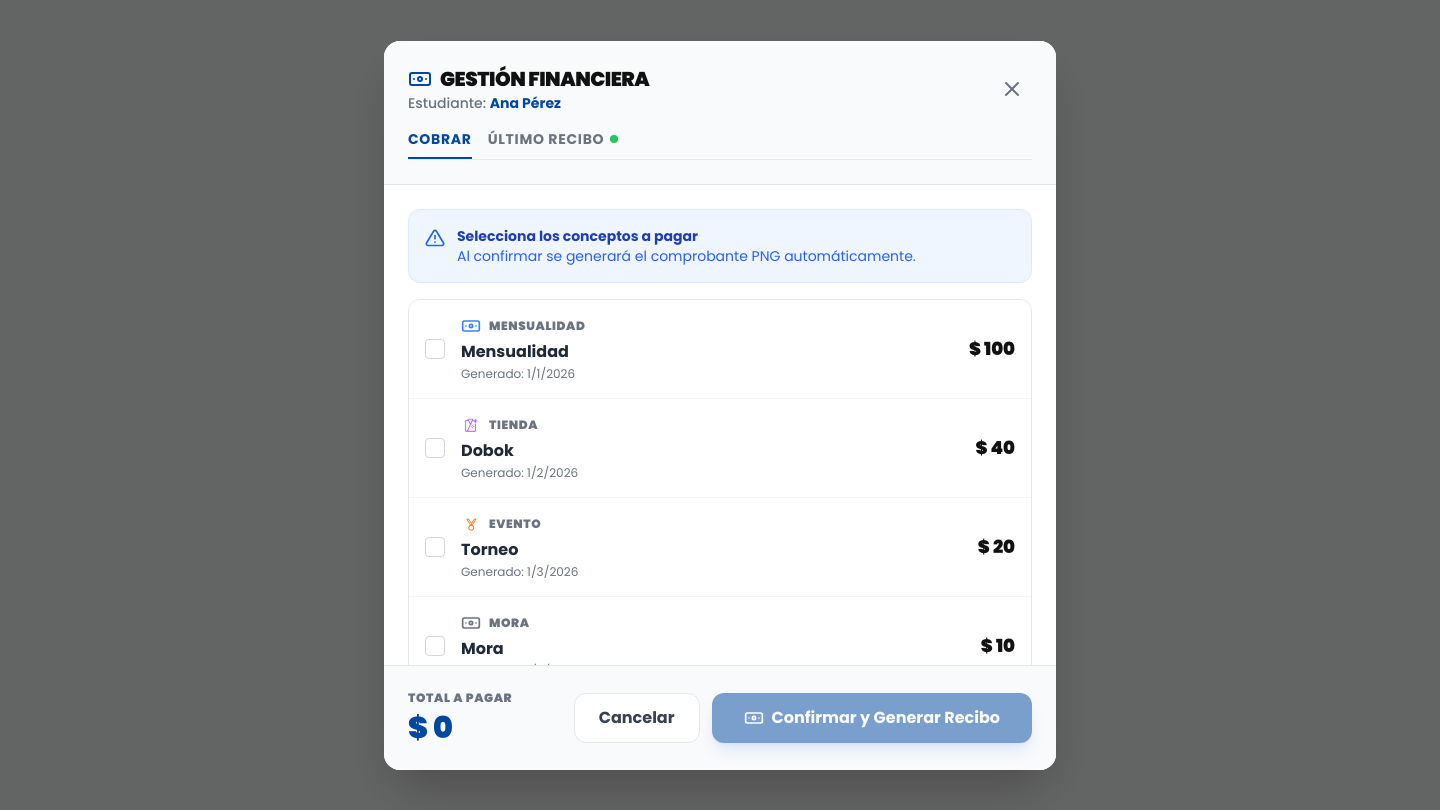
Test: ModalRegistrarPago › anulación del último pago › permite cerrar la confirmación sin anular
The width and height of the screenshot is (1440, 810).
Check: the text "Dobok" is shown, box left=461, top=438, right=514, bottom=462
Click the button "Último Recibo".
click(553, 144)  # box left=488, top=128, right=618, bottom=158
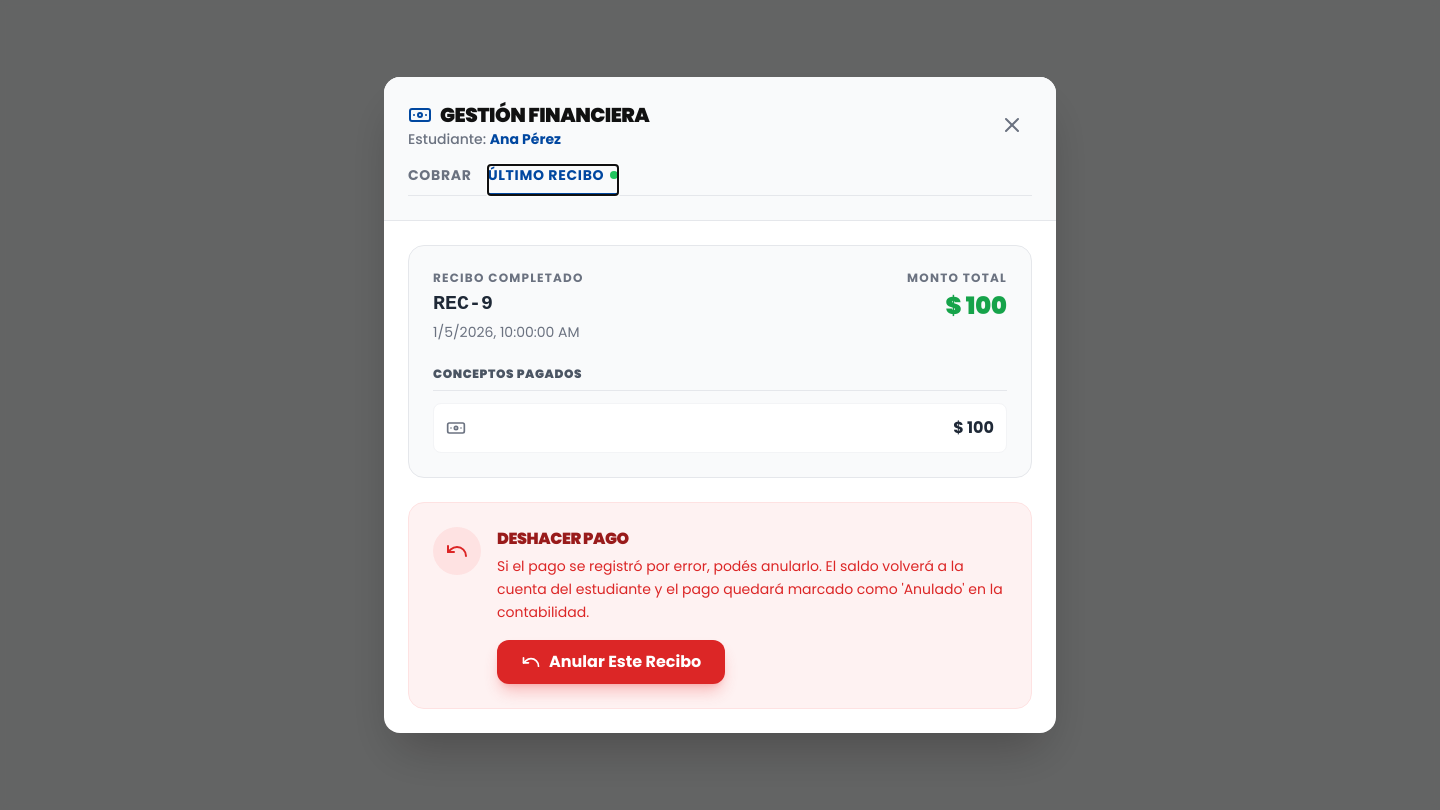
Click the button "Anular Este Recibo".
click(611, 662)  # box left=497, top=640, right=725, bottom=684
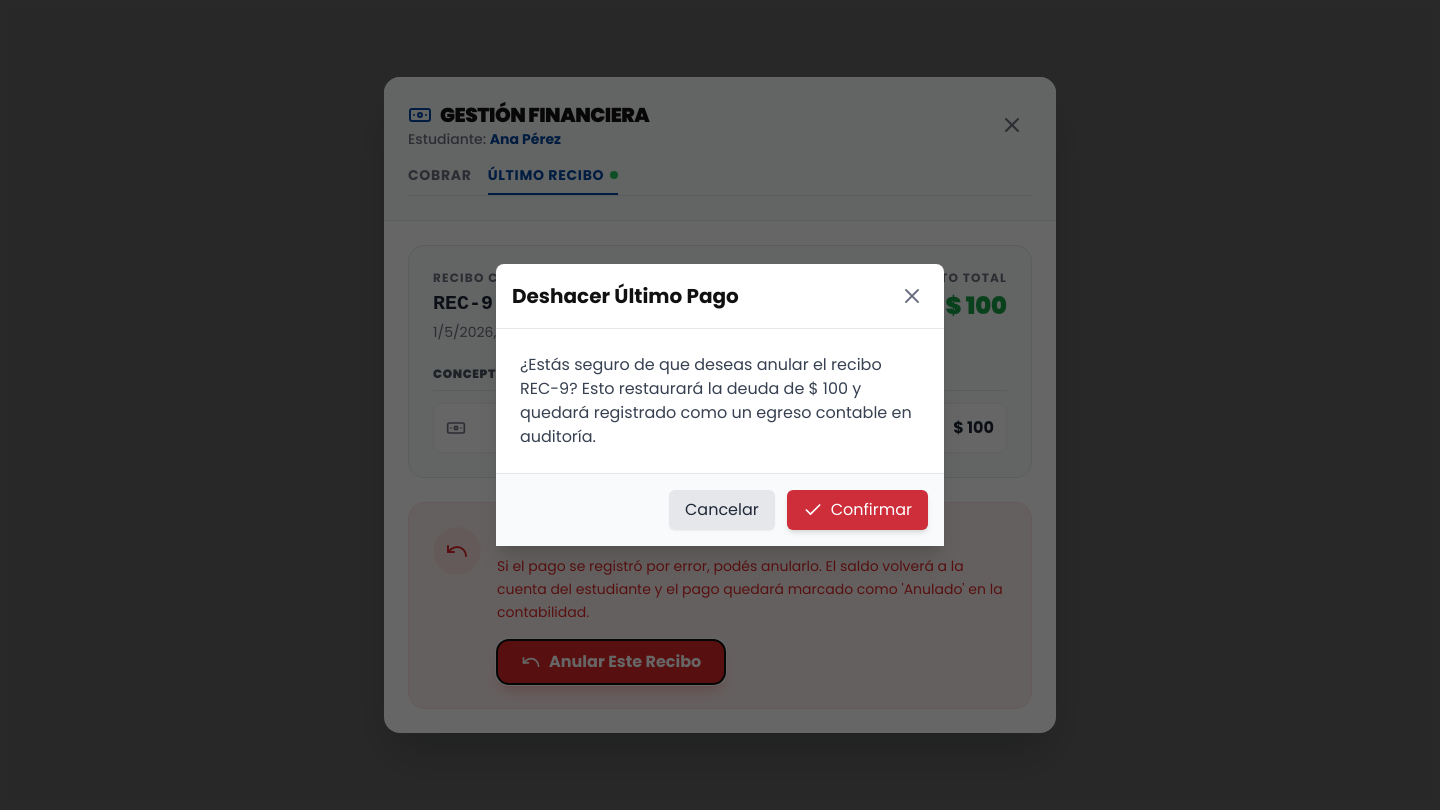
Check: the heading "Deshacer Último Pago" is shown, box left=512, top=282, right=739, bottom=310
Click the button "Cancelar".
click(722, 510)  # box left=669, top=490, right=775, bottom=530
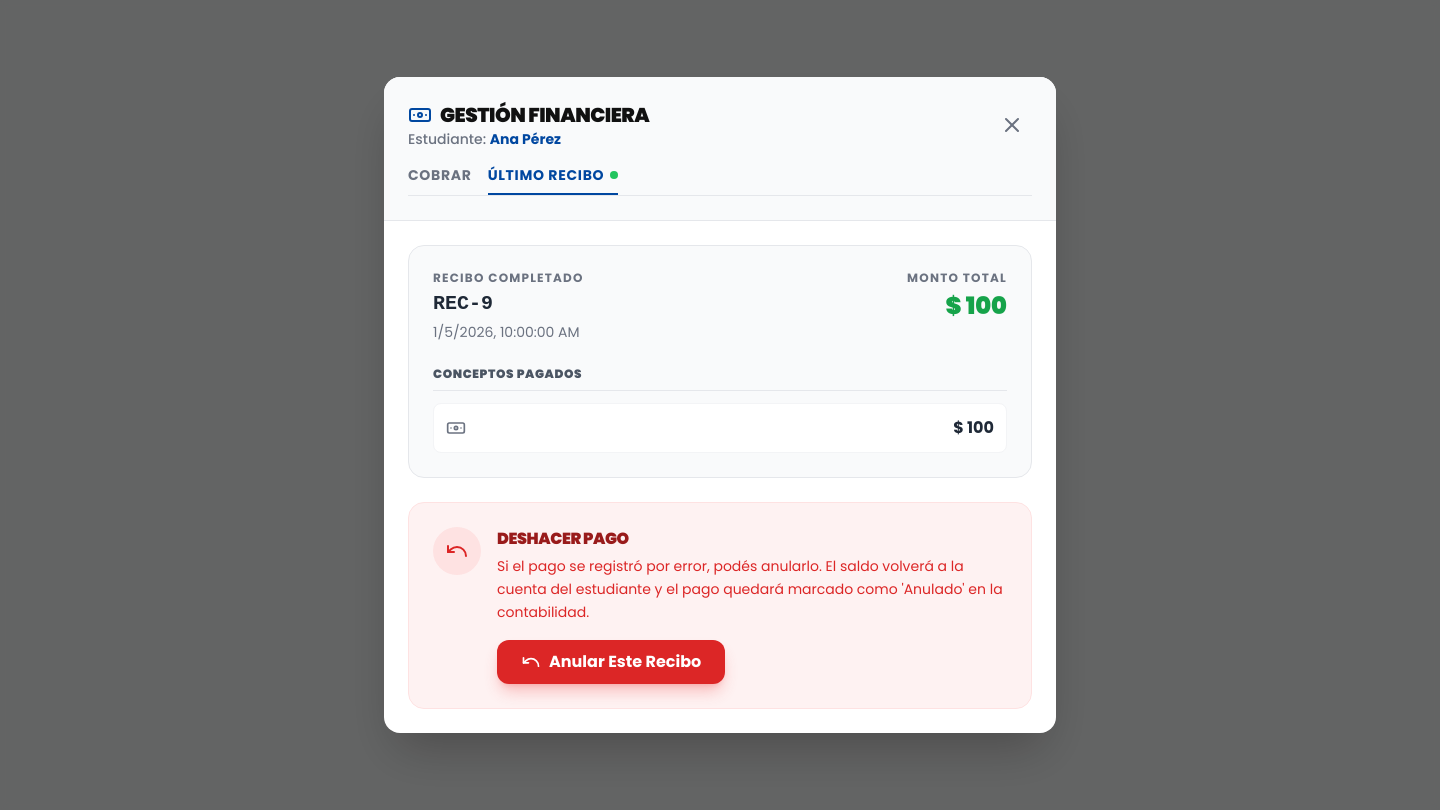
Check: the heading "Deshacer Último Pago" is gone
